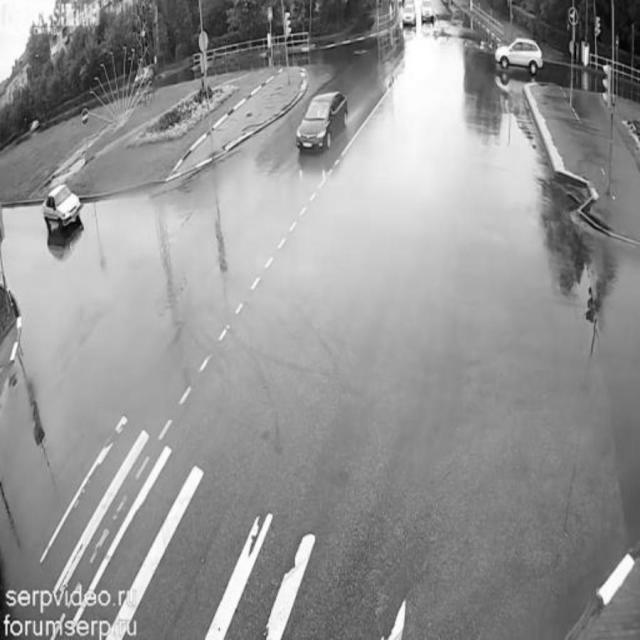vehicle: (295, 89, 351, 153), (496, 36, 540, 82), (47, 182, 82, 232), (403, 6, 419, 33), (417, 3, 437, 23)
